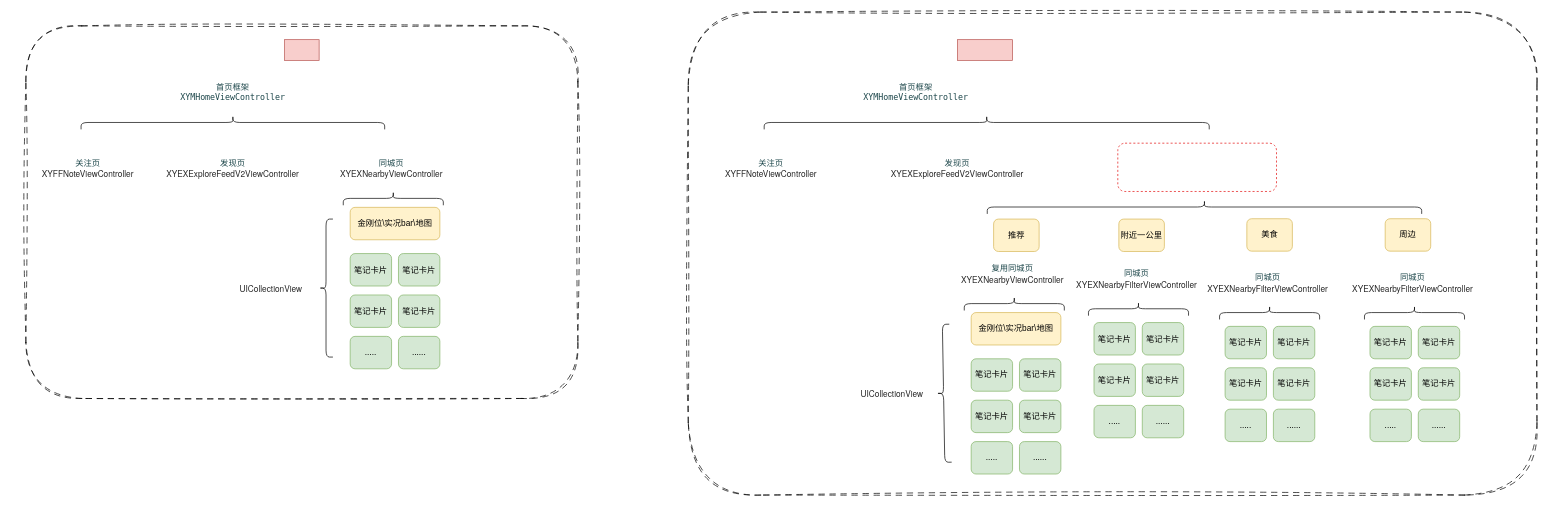
This 1549x507 diagram has some shape labels left out. Each missing label, with the centre of its shape:
同城viewPage容器 XYEXNearbyWrapperPageViewController: [1196,166]
同城新结构: [985,49]
现状: [301,49]
